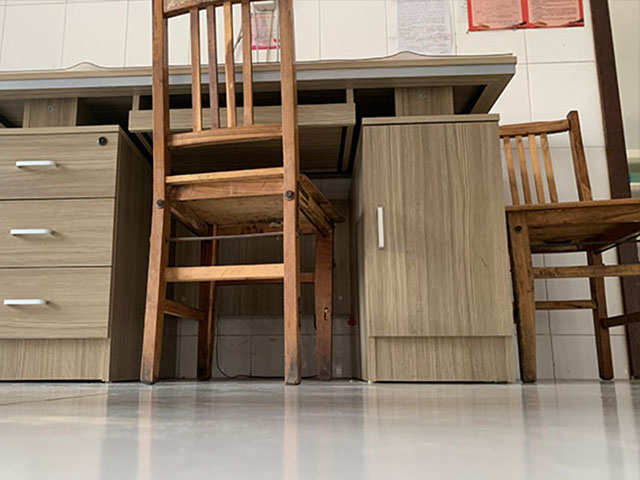cabinet: (357, 113, 506, 387), (3, 123, 136, 386)
stool: (139, 1, 339, 385), (508, 108, 640, 387)
